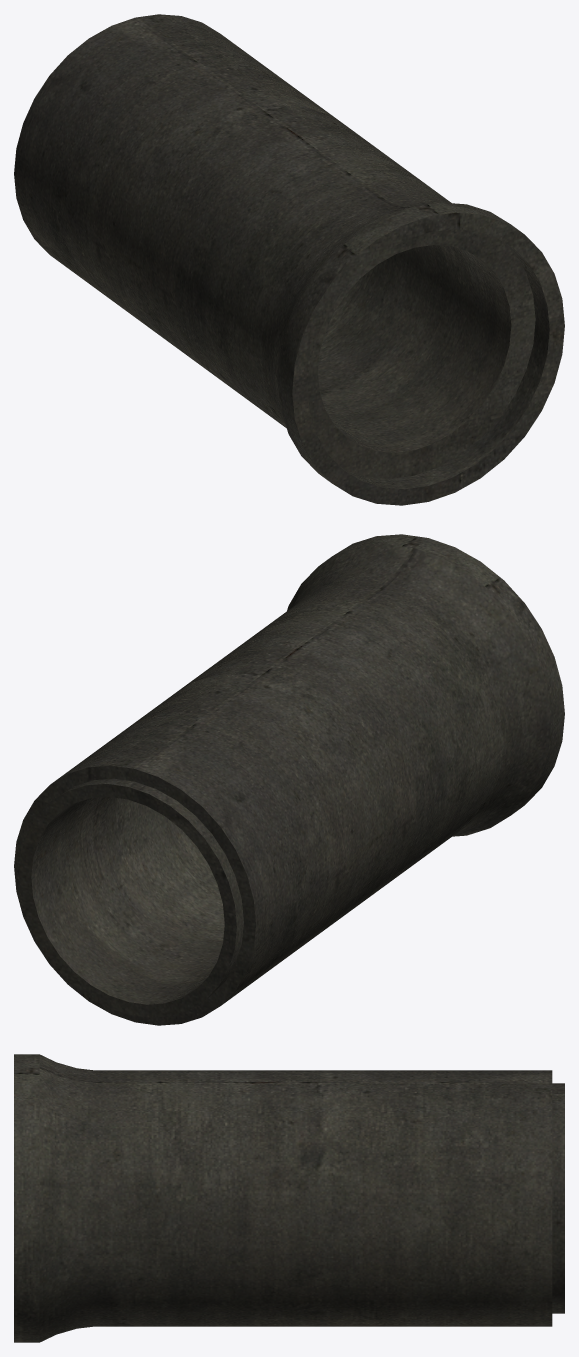
The model's file is concrete_pipe_hm_1_end.obj.
3 renders of one model, top to bottom at view 1: azimuth 30°, elevation 25°; view 2: azimuth 150°, elevation 25°; view 3: azimuth 270°, elevation 25°, orthographic. The views are drawn at different scales.
Parts seen in each view (by area): view 1: concrete_pipe_hm_1_end; view 2: concrete_pipe_hm_1_end; view 3: concrete_pipe_hm_1_end.
Part boxes in pixels (left/top/right/bottom): concrete_pipe_hm_1_end: left=14, top=14, right=564, bottom=505; concrete_pipe_hm_1_end: left=14, top=534, right=564, bottom=1025; concrete_pipe_hm_1_end: left=14, top=1054, right=564, bottom=1342.
Bounding box in the file's own units: 2.25 × 2.25 × 4.3.
